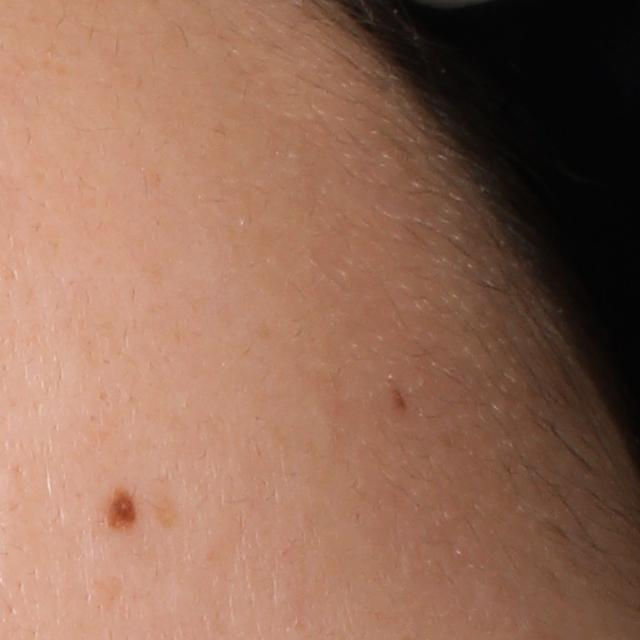nevus: (101, 482, 142, 536), (390, 385, 407, 410)
